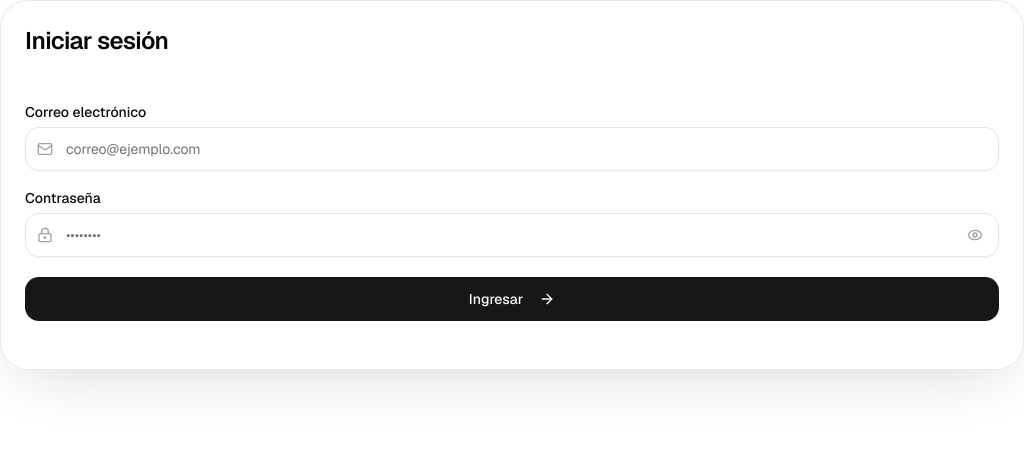
LoginForm › muestra error si Supabase devuelve credenciales inválidas
Type "test@example.com" into the field labelled "Correo electrónico" at coordinates (512, 149), box [25,127,999,171]
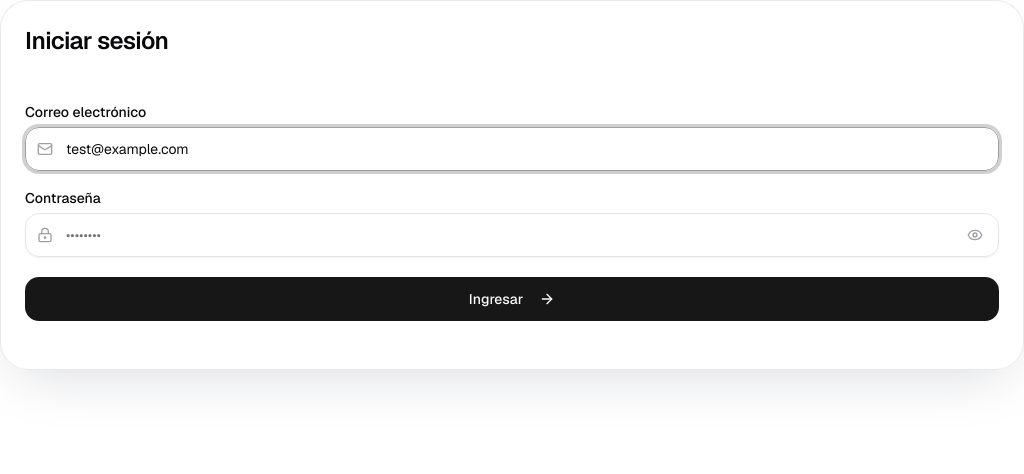
Type "12345678" into the password field labelled "Contraseña" at coordinates (512, 235), box [25,213,999,257]
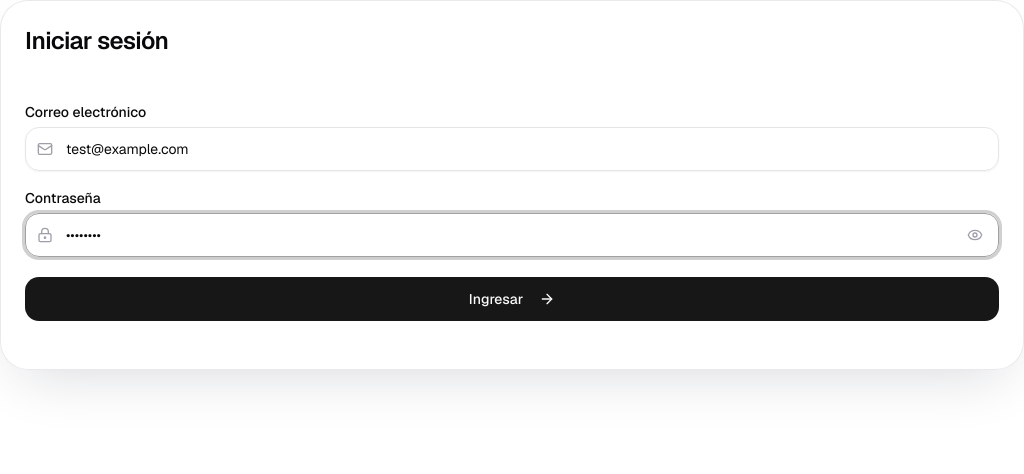
Click the button "Ingresar" at coordinates (512, 299), box [25,277,999,321]
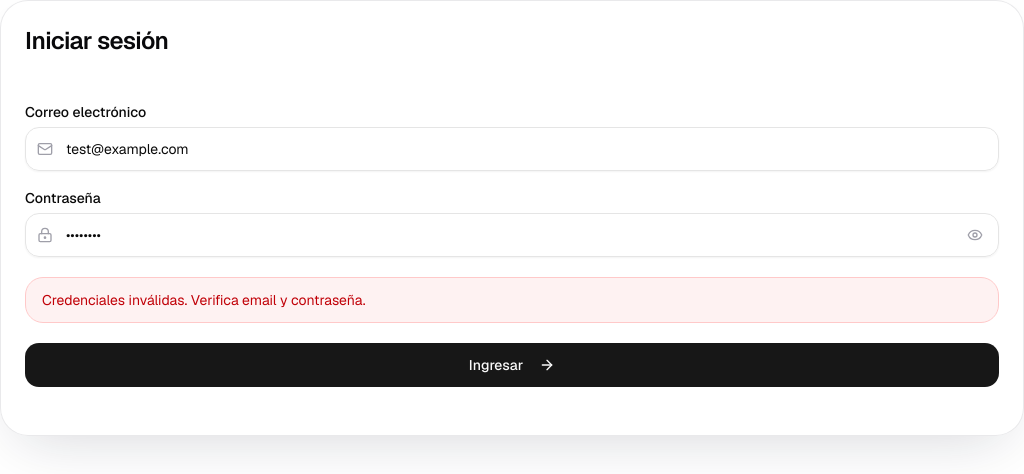
Result: the text "Credenciales inválidas. Verifica email y contraseña." is shown at [25,277,999,323]
